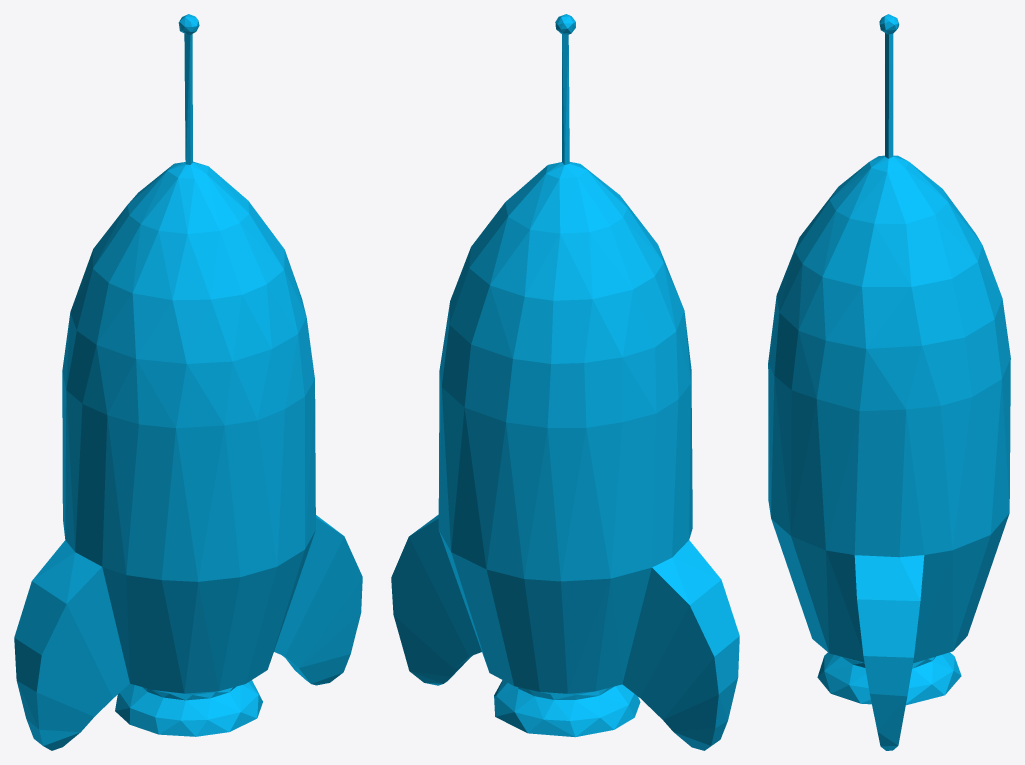
Rendered from Rakieta.obj.
3 renders of one model, left to right at view 1: azimuth 30°, elevation 25°; view 2: azimuth 150°, elevation 25°; view 3: azimuth 270°, elevation 25°, orthographic. The views are drawn at different scales.
Parts seen in each view (by area): view 1: Circle; view 2: Circle; view 3: Circle.
Part boxes in pixels (x1,y1,x2,y2): Circle: (14,14,362,750); Circle: (391,14,739,750); Circle: (768,14,1010,750).
Size of the model in its own units: 2.39 by 4.91 by 1.61.
